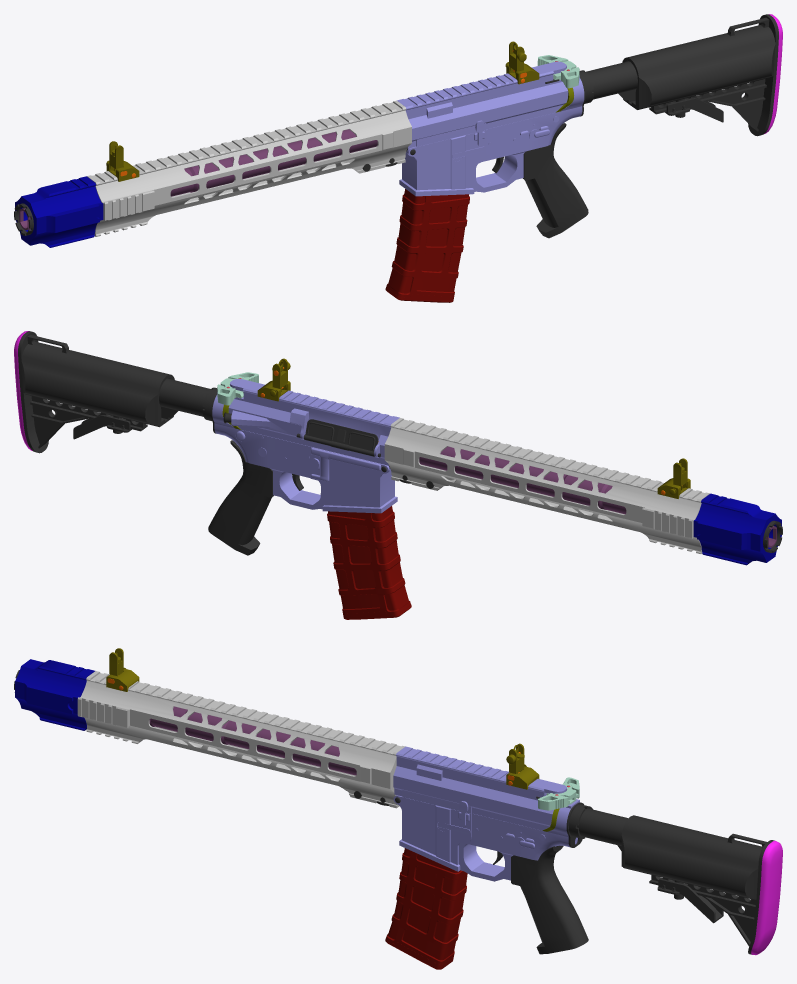
3 views of the same model, one above another, from view 1: azimuth 30°, elevation 25°; view 2: azimuth 150°, elevation 25°; view 3: azimuth 330°, elevation 25° (orthographic).
Visible parts, largest first — view 1: Plane.015 (×4); view 2: Plane.015 (×4); view 3: Plane.015 (×4).
Part boxes in pixels (x1,y1,x2,y2): Plane.015 (×4): (14,14,782,302); Plane.015 (×4): (14,331,782,619); Plane.015 (×4): (14,648,782,969).
Size of the model in its own units: 495 by 149 by 35.25.
